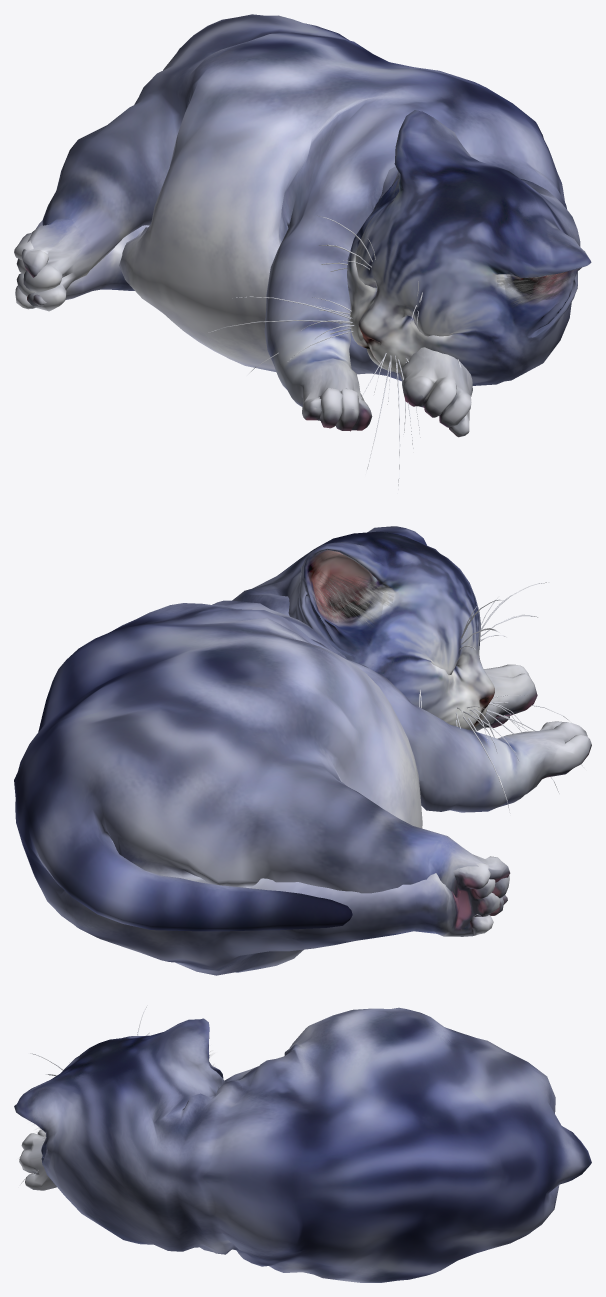
3 views of the same model, one above another, from view 1: azimuth 30°, elevation 25°; view 2: azimuth 150°, elevation 25°; view 3: azimuth 270°, elevation 25° (orthographic). The views are drawn at different scales.
Visible parts, largest first — view 1: SK_CH_Kitten_Blue; view 2: SK_CH_Kitten_Blue; view 3: SK_CH_Kitten_Blue.
Boxes of the visible parts, x1,y1,x2,y2 form: SK_CH_Kitten_Blue: (14,14,591,493); SK_CH_Kitten_Blue: (14,526,591,975); SK_CH_Kitten_Blue: (14,1007,591,1282).
Bounding box in the file's own units: 31.92 × 20.79 × 41.64.
